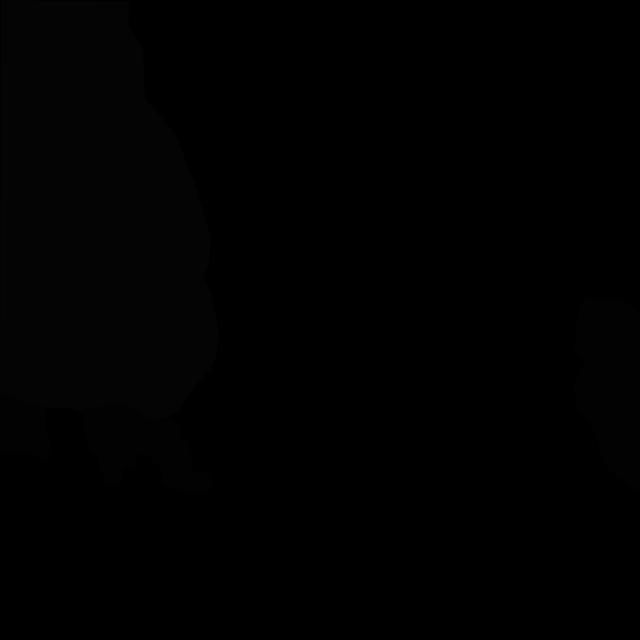cardboard: (573, 297, 640, 493), (82, 402, 213, 493), (0, 393, 52, 461)
soft_plastic: (0, 0, 218, 420)
